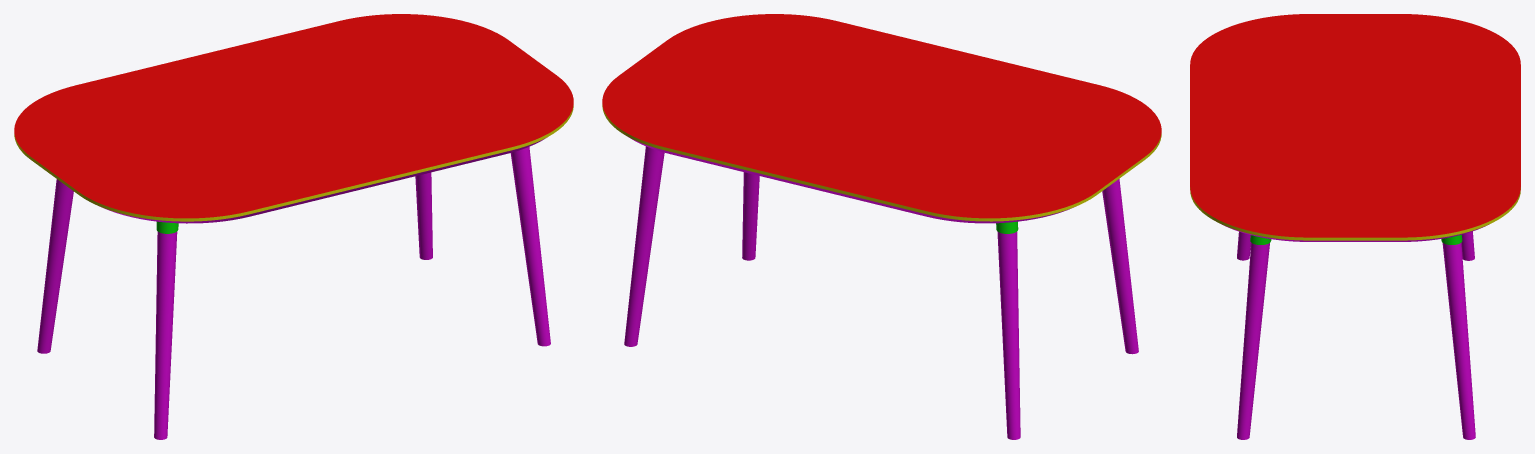
The model's file is Table.fbx.
3 views of the same model, side by side, from view 1: azimuth 30°, elevation 25°; view 2: azimuth 150°, elevation 25°; view 3: azimuth 270°, elevation 25° (orthographic). The views are drawn at different scales.
Parts seen in each view (by area): view 1: Table; view 2: Table; view 3: Table.
Boxes of the visible parts, x1=… form: Table: x1=14, y1=14, x2=573, y2=439; Table: x1=602, y1=14, x2=1161, y2=439; Table: x1=1190, y1=14, x2=1520, y2=439.
Bounding box in the file's own units: 1.6 × 0.74 × 1.
